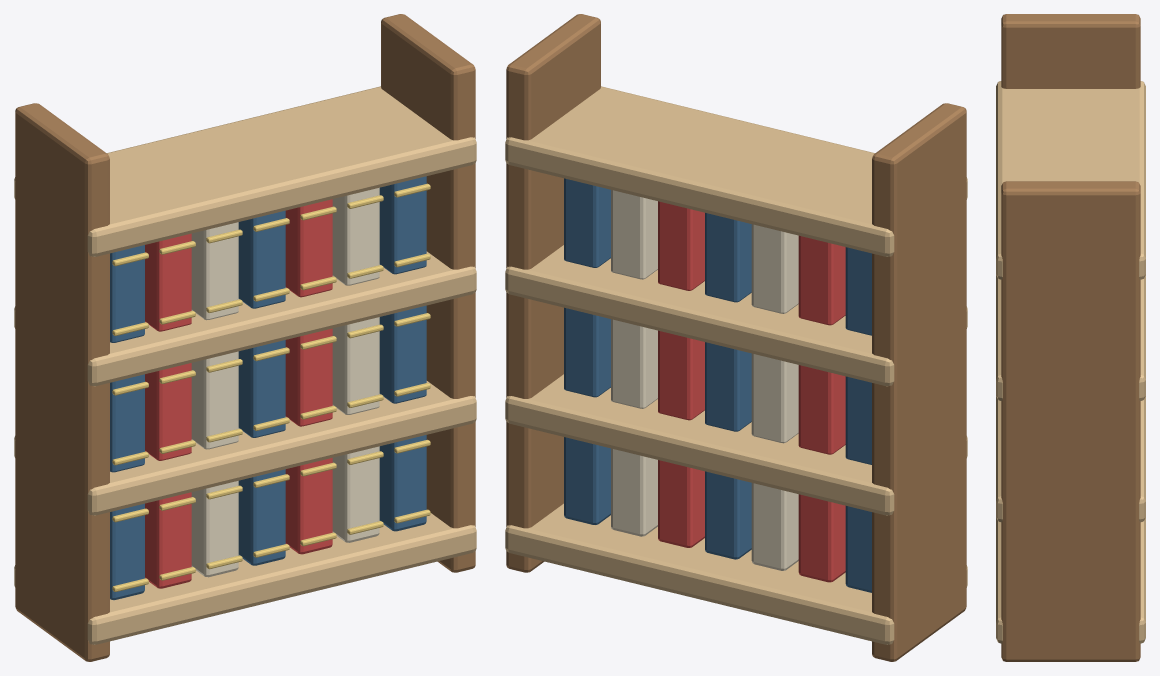
File: woodwork_shodana.glb
The picture shows the model from 3 angles, left to right: view 1: azimuth 30°, elevation 25°; view 2: azimuth 150°, elevation 25°; view 3: azimuth 270°, elevation 25°; orthographic projection. The views are drawn at different scales.
Visible parts, largest first — view 1: Bookstand upright, Bookstand shelving plank.003, Bookstand upright.001, Bookstand shelving plank, Bookstand shelving plank.002, Bookstand shelving plank.001, Sewn book spine 1_6, Sewn book spine 1_4, Sewn book spine 2_5, Sewn book spine 2_6, Sewn book spine 2_3, Sewn book spine 1_2 (+15 smaller); view 2: Bookstand upright, Bookstand shelving plank.003, Bookstand upright.001, Bookstand shelving plank, Bookstand shelving plank.001, Bookstand shelving plank.002, Sewn book spine 2_1, Sewn book spine 2_2, Sewn book spine 1_1, Sewn book spine 1_2, Sewn book spine 0_1, Sewn book spine 2_6 (+15 smaller); view 3: Bookstand upright.001, Bookstand shelving plank.003, Bookstand upright, Bookstand shelving plank, Bookstand shelving plank.001, Bookstand shelving plank.002.
Boxes of the visible parts, left/top/right/bottom form: Bookstand upright: left=15, top=103, right=109, bottom=661; Bookstand shelving plank.003: left=14, top=86, right=476, bottom=256; Bookstand upright.001: left=381, top=14, right=475, bottom=572; Bookstand shelving plank: left=14, top=513, right=476, bottom=644; Bookstand shelving plank.002: left=14, top=251, right=476, bottom=386; Bookstand shelving plank.001: left=14, top=381, right=476, bottom=515; Sewn book spine 1_6: left=379, top=305, right=426, bottom=403; Sewn book spine 1_4: left=285, top=328, right=332, bottom=426; Sewn book spine 2_5: left=332, top=187, right=379, bottom=285; Sewn book spine 2_6: left=379, top=176, right=426, bottom=274; Sewn book spine 2_3: left=238, top=210, right=285, bottom=308; Sewn book spine 1_2: left=191, top=351, right=238, bottom=449; Bookstand upright: left=872, top=103, right=966, bottom=661; Bookstand shelving plank.003: left=505, top=86, right=967, bottom=256; Bookstand upright.001: left=506, top=14, right=600, bottom=572; Bookstand shelving plank: left=505, top=503, right=967, bottom=644; Bookstand shelving plank.001: left=505, top=374, right=967, bottom=515; Bookstand shelving plank.002: left=505, top=245, right=967, bottom=386; Sewn book spine 2_1: left=798, top=235, right=845, bottom=325; Sewn book spine 2_2: left=751, top=224, right=798, bottom=313; Sewn book spine 1_1: left=798, top=365, right=845, bottom=454; Sewn book spine 1_2: left=751, top=353, right=798, bottom=443; Sewn book spine 0_1: left=798, top=494, right=845, bottom=582; Sewn book spine 2_6: left=564, top=178, right=610, bottom=267; Bookstand upright.001: left=1001, top=181, right=1140, bottom=661; Bookstand shelving plank.003: left=996, top=81, right=1145, bottom=279; Bookstand upright: left=1001, top=14, right=1140, bottom=88; Bookstand shelving plank: left=996, top=517, right=1145, bottom=643; Bookstand shelving plank.001: left=996, top=396, right=1145, bottom=522; Bookstand shelving plank.002: left=996, top=275, right=1145, bottom=400.
Size of the model in its own units: 1.58 by 1.95 by 0.56.
